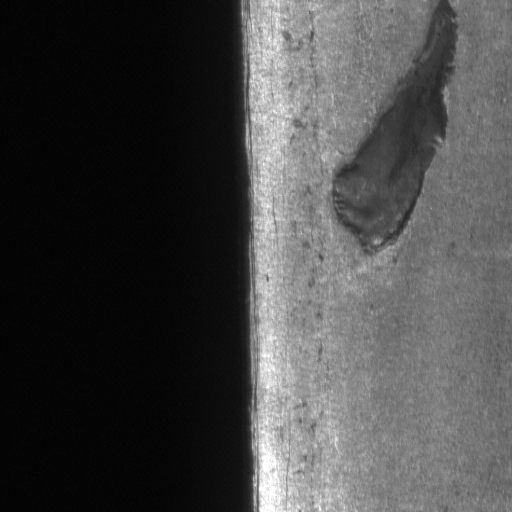aokeng: (330, 1, 459, 261)
